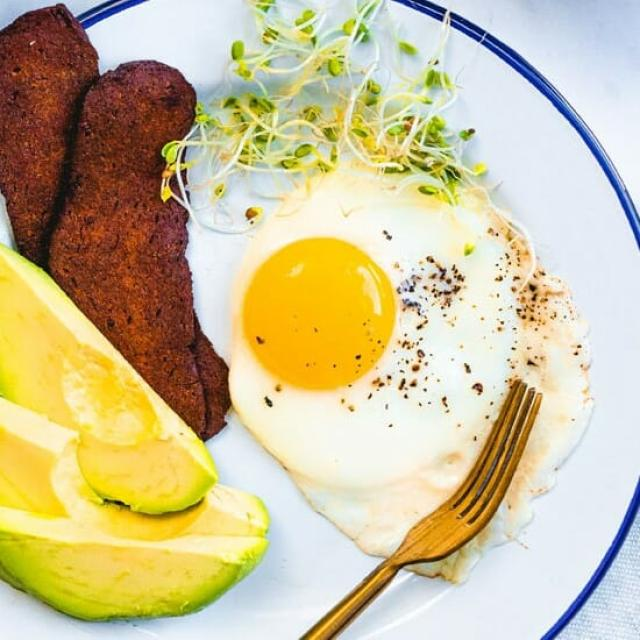Bacon: (49, 61, 230, 438), (0, 4, 99, 266)
Egg: (233, 171, 593, 582)
